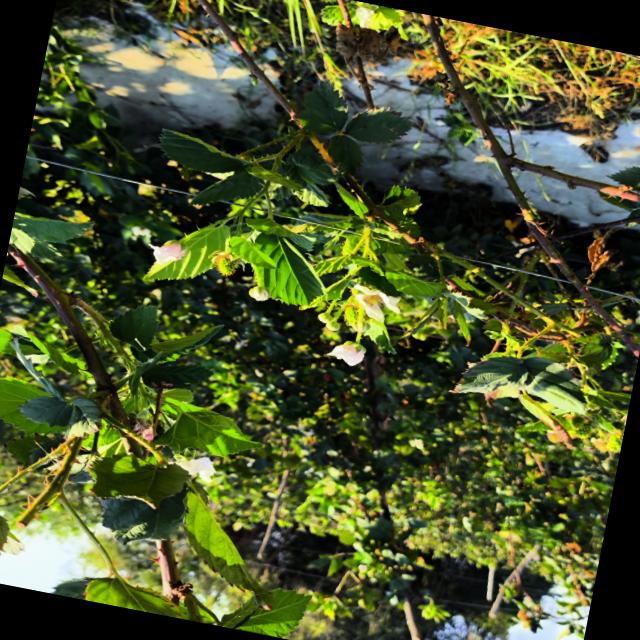boton: (249, 286, 270, 301), (354, 320, 369, 333), (318, 312, 332, 324), (326, 321, 340, 331)
flor: (354, 284, 400, 323), (327, 342, 366, 366), (149, 242, 186, 264)
